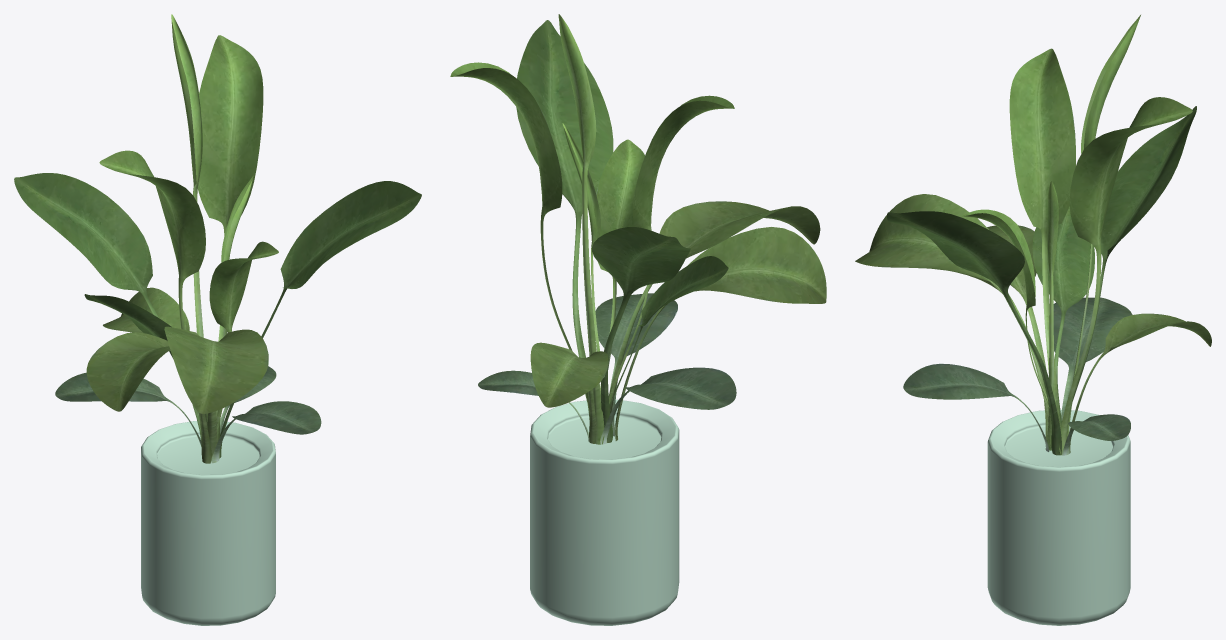
The model's file is plant_bird.glb.
3 renders of one model, left to right at view 1: azimuth 30°, elevation 25°; view 2: azimuth 150°, elevation 25°; view 3: azimuth 270°, elevation 25°, orthographic. The views are drawn at different scales.
Parts seen in each view (by area): view 1: plant_bird_tex_p085, plant_bird_solid_#BFE3D0; view 2: plant_bird_tex_p085, plant_bird_solid_#BFE3D0; view 3: plant_bird_tex_p085, plant_bird_solid_#BFE3D0.
Boxes of the visible parts, box(x1,y1,x2,y2) form: plant_bird_tex_p085: box(14, 14, 421, 463); plant_bird_solid_#BFE3D0: box(141, 421, 275, 625); plant_bird_tex_p085: box(450, 14, 826, 444); plant_bird_solid_#BFE3D0: box(530, 399, 679, 625); plant_bird_tex_p085: box(855, 15, 1211, 455); plant_bird_solid_#BFE3D0: box(987, 409, 1130, 625).
Bounding box in the file's own units: 0.9758 × 1.81 × 0.9984.
Materials: 2 (1 with a texture image).
